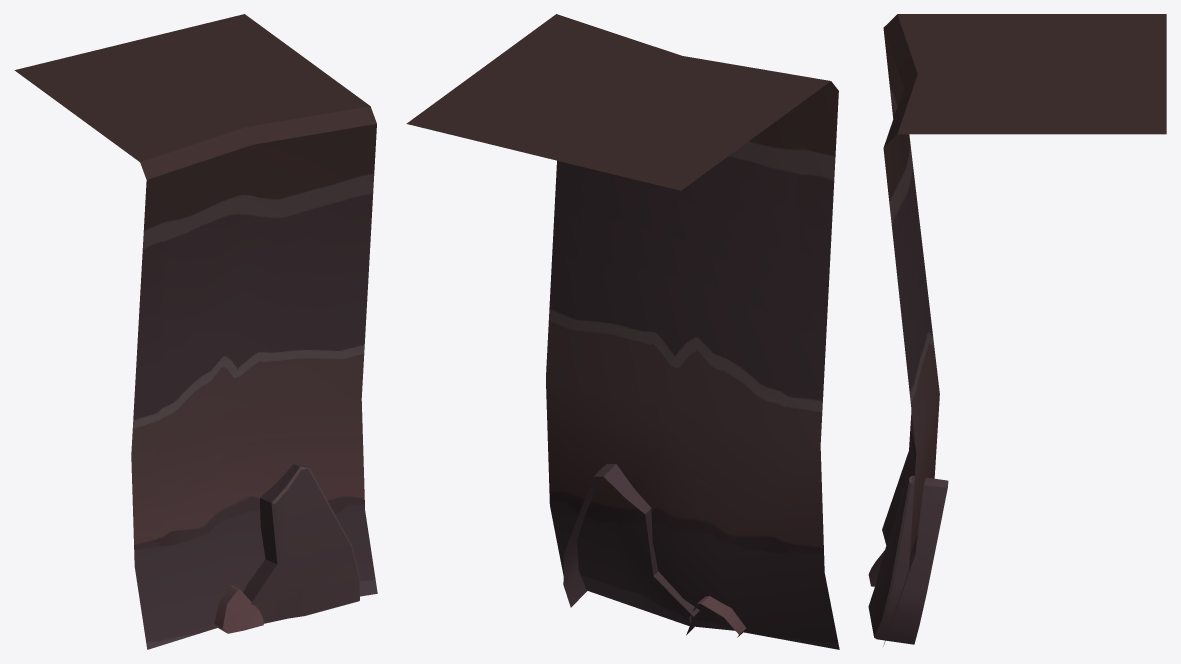
Rendered from M_Wall_01.fbx.
The picture shows the model from 3 angles, left to right: view 1: azimuth 30°, elevation 25°; view 2: azimuth 150°, elevation 25°; view 3: azimuth 270°, elevation 25°; orthographic projection. The views are drawn at different scales.
Parts seen in each view (by area): view 1: M_Walls; view 2: M_Walls; view 3: M_Walls.
Boxes of the visible parts, x1,y1,x2,y2 form: M_Walls: [14, 14, 377, 649]; M_Walls: [406, 14, 839, 649]; M_Walls: [868, 14, 1166, 646].
Size of the model in its own units: 200 by 404 by 210.
